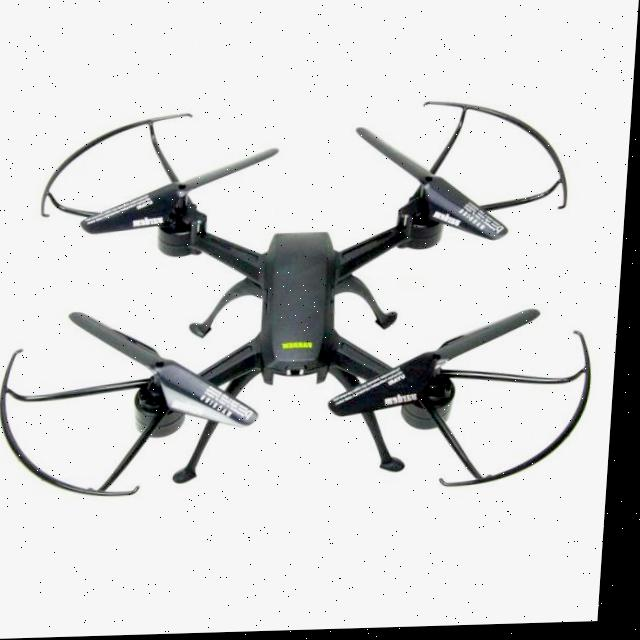drone: (0, 97, 610, 524)
